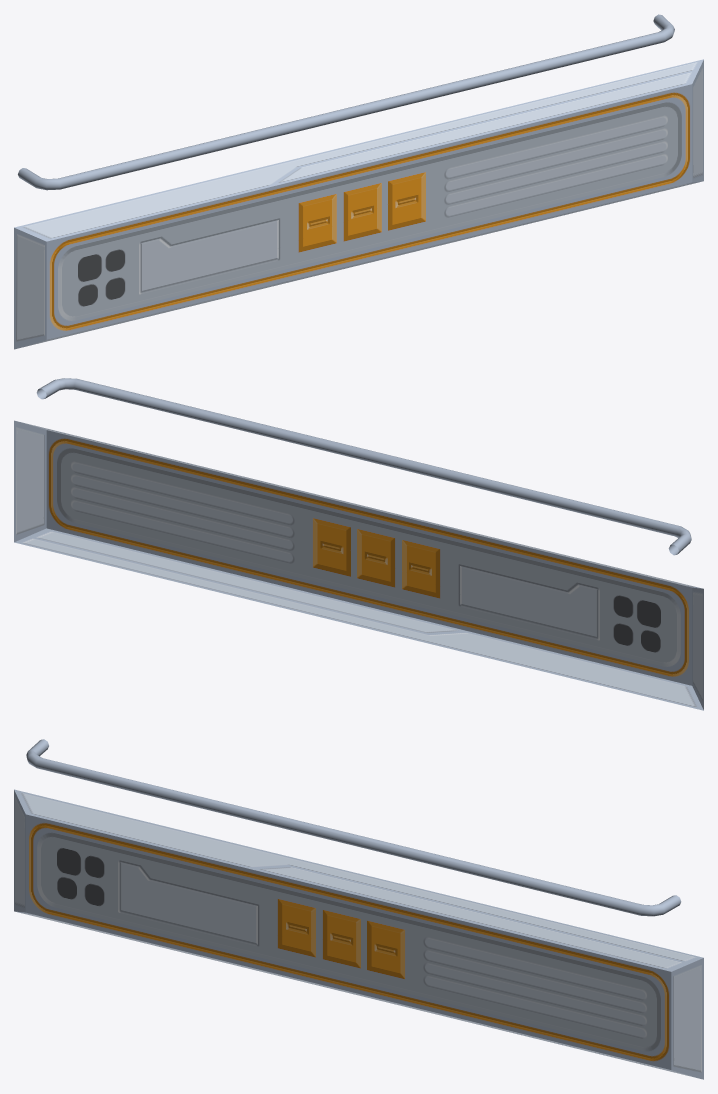
The model's file is Envi20.dae.
3 renders of one model, top to bottom at view 1: azimuth 30°, elevation 25°; view 2: azimuth 150°, elevation 25°; view 3: azimuth 330°, elevation 25°, orthographic.
Visible parts, largest first — view 1: NurbsPath; view 2: NurbsPath; view 3: NurbsPath.
Part boxes in pixels (bbox=[...]): NurbsPath: bbox=[14, 14, 703, 349]; NurbsPath: bbox=[14, 378, 703, 710]; NurbsPath: bbox=[14, 739, 703, 1079].
Bounding box in the file's own units: 13.37 × 0.7784 × 3.13.
